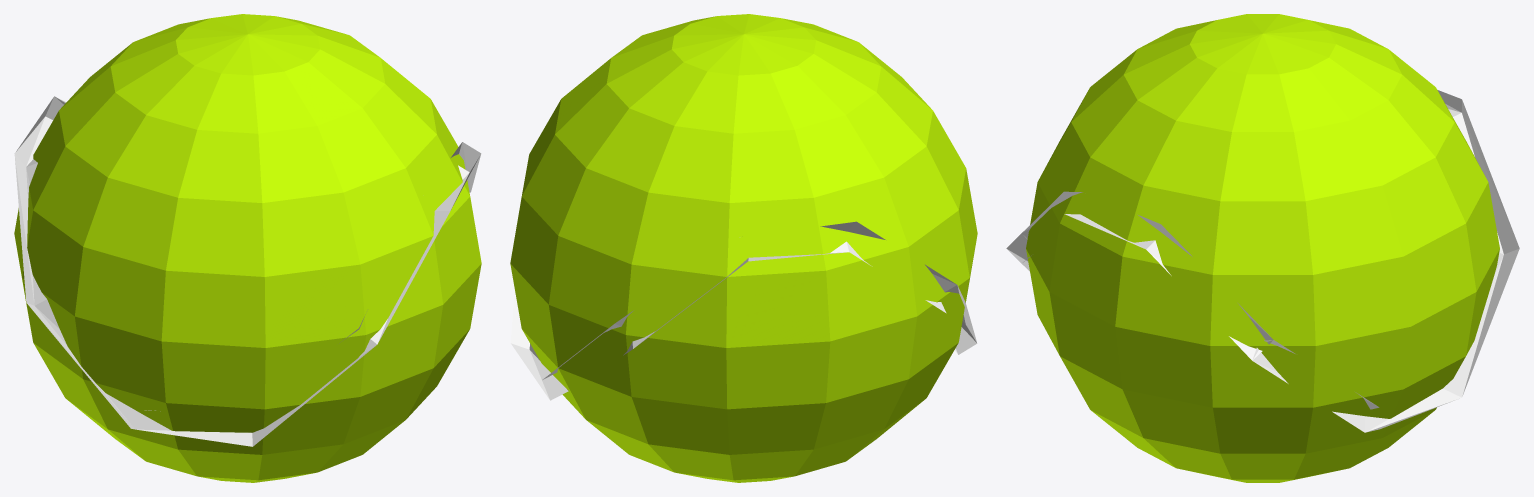
The model's file is tennisboll.glb.
3 renders of one model, left to right at view 1: azimuth 30°, elevation 25°; view 2: azimuth 150°, elevation 25°; view 3: azimuth 270°, elevation 25°, orthographic.
Visible parts, largest first — view 1: tennisboll; view 2: tennisboll; view 3: tennisboll.
Boxes of the visible parts, <box> form: tennisboll: <box>14,14,481,482</box>; tennisboll: <box>510,14,977,482</box>; tennisboll: <box>1006,14,1519,482</box>.
Size of the model in its own units: 0.2596 by 0.24 by 0.26.
